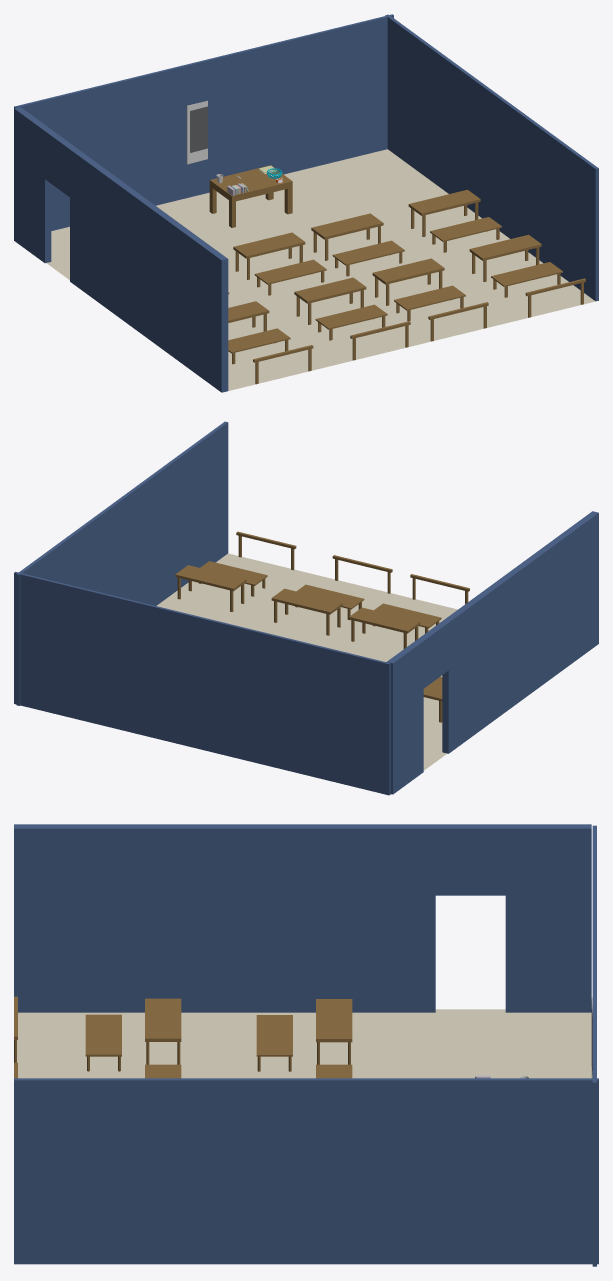
The model's file is Spectacular Jarv.glb.
The picture shows the model from 3 angles, top to bottom: view 1: azimuth 30°, elevation 25°; view 2: azimuth 150°, elevation 25°; view 3: azimuth 270°, elevation 25°; orthographic projection. The views are drawn at different scales.
Parts seen in each view (by area): view 1: Mesh_Mesh_head_geo.001_lambert2SG.001; view 2: Mesh_Mesh_head_geo.001_lambert2SG.001; view 3: Mesh_Mesh_head_geo.001_lambert2SG.001.
Part boxes in pixels (x1,y1,x2,y2): Mesh_Mesh_head_geo.001_lambert2SG.001: (14, 14, 598, 392); Mesh_Mesh_head_geo.001_lambert2SG.001: (14, 421, 598, 795); Mesh_Mesh_head_geo.001_lambert2SG.001: (14, 824, 598, 1266).
Bounding box in the file's own units: 587 × 195 × 562.
